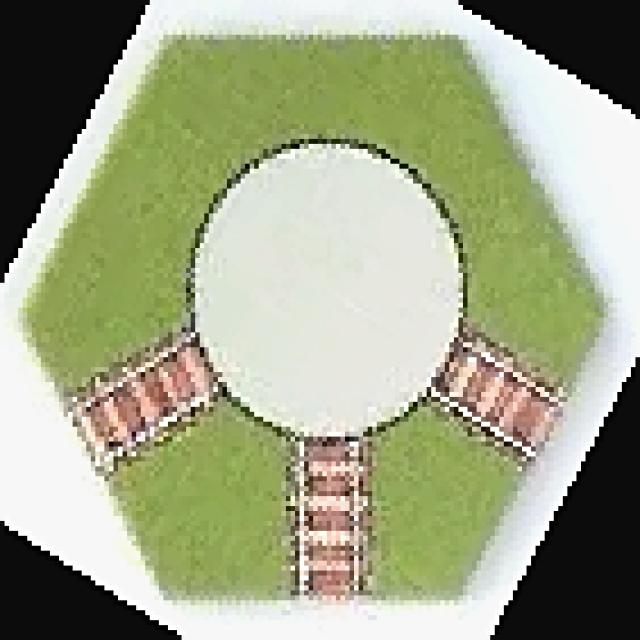12_1: (20, 29, 611, 605)
